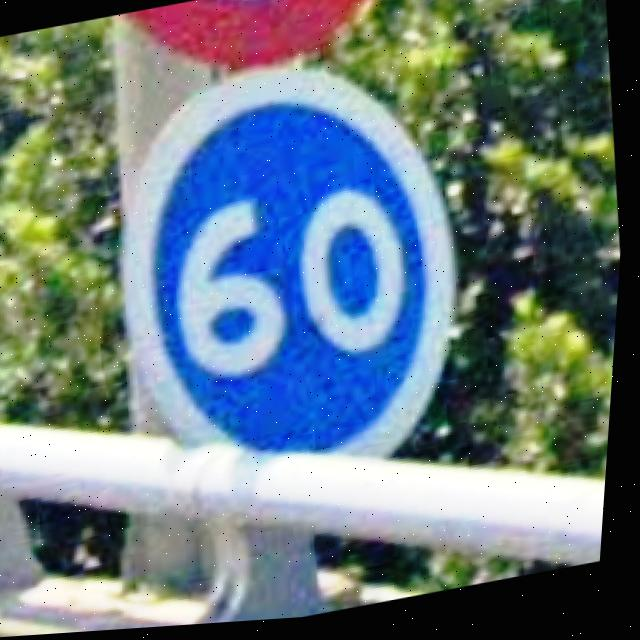min60: (93, 36, 496, 511)
